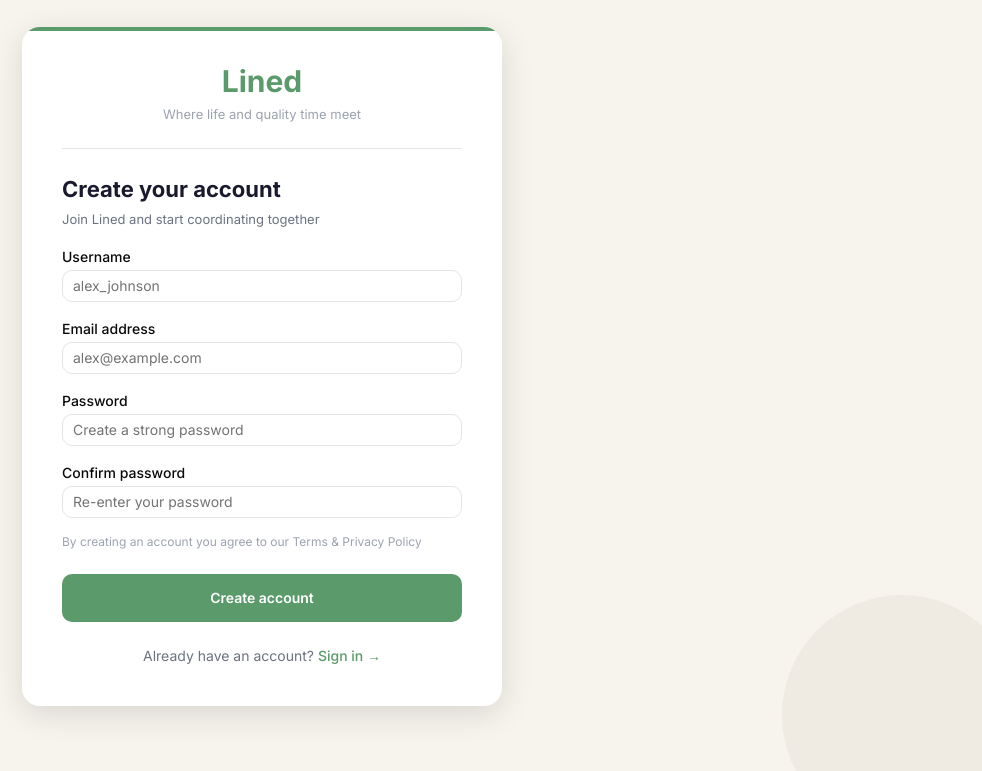
SignUpPage › shows a required-field error after blurring an empty username
The width and height of the screenshot is (982, 771).
Click the field labelled "Username" at {"x": 262, "y": 286}, box [62, 270, 462, 302]
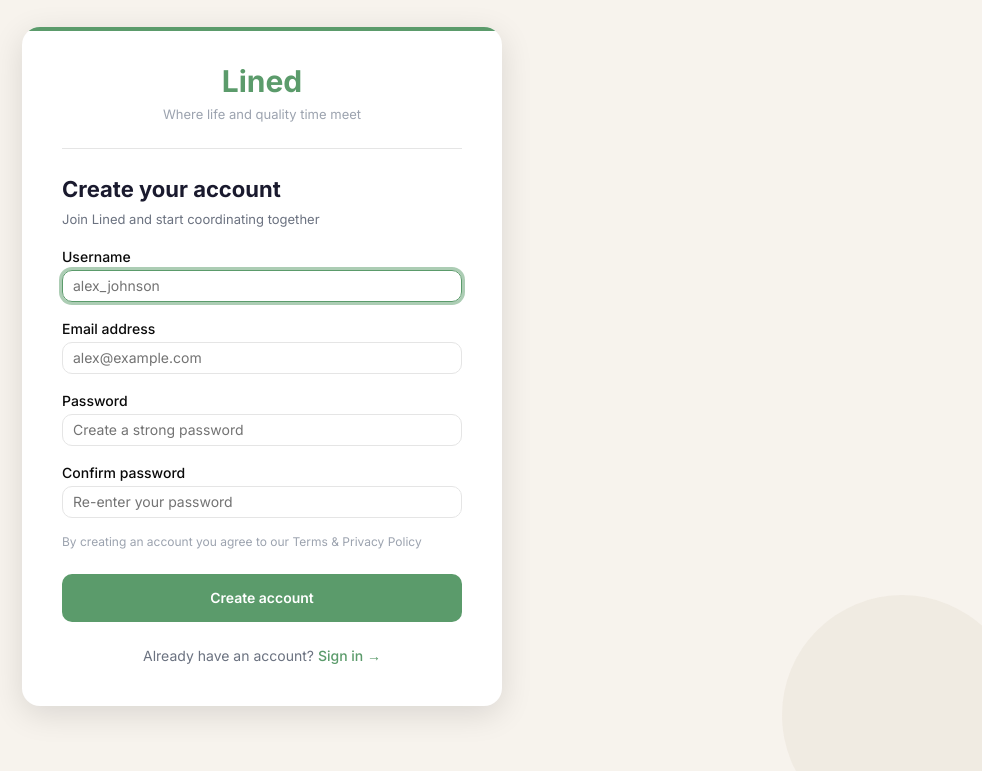
Press Tab
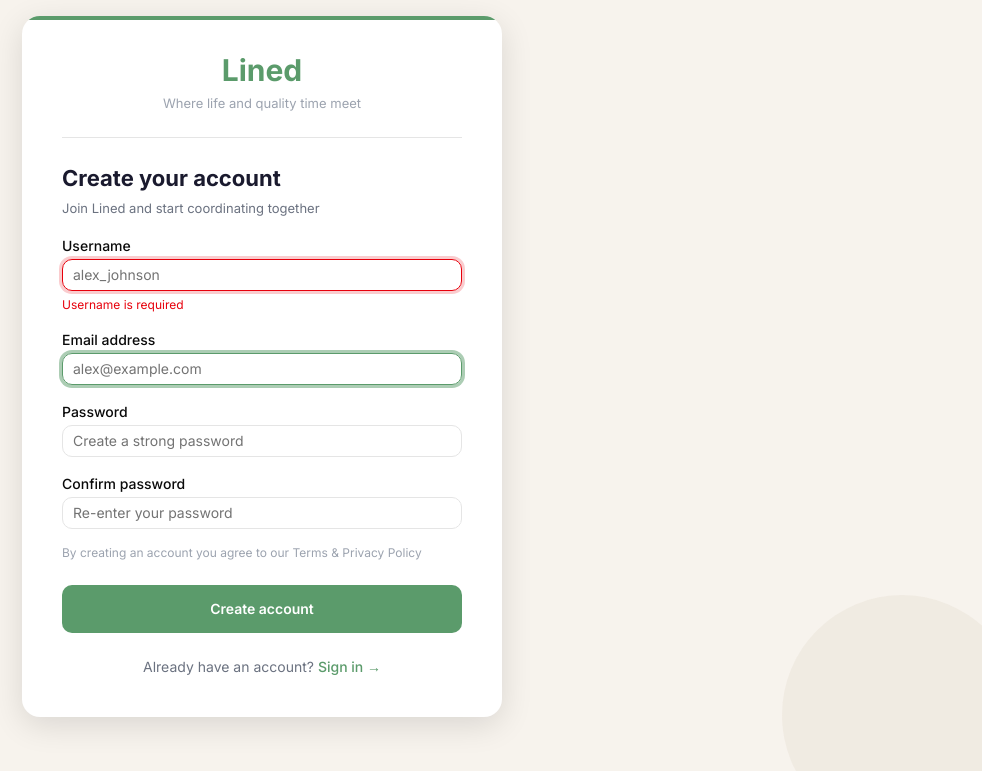
Result: the text "Username is required" is shown at [62, 296, 184, 312]
